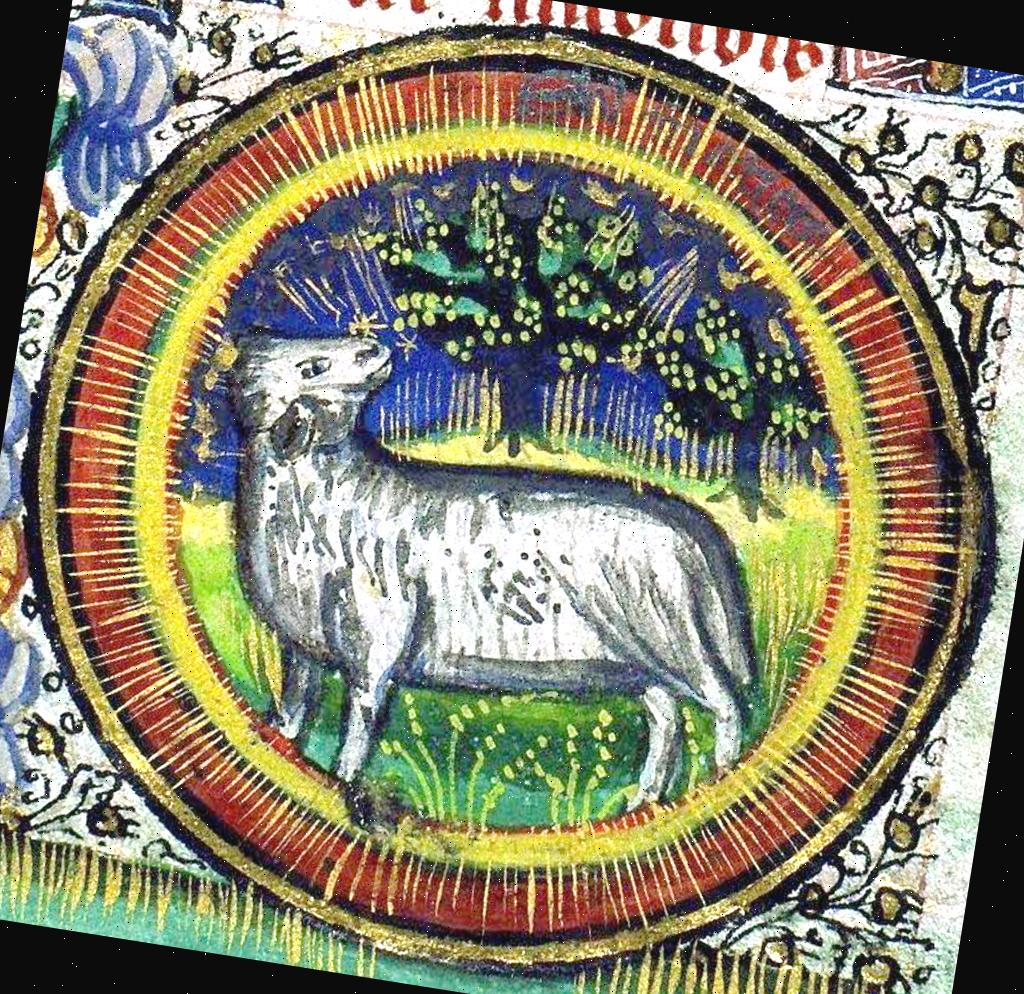Sheep: (154, 310, 810, 844)
